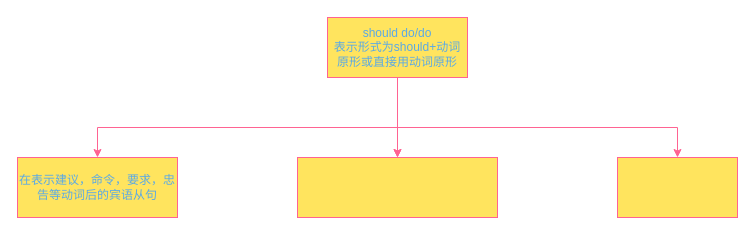
The diagram is 755 pixels wide and 235 high, and some of its shapes have lost their labels. Here are the shapes that lost their labels. From the top down, the centre of each, then its label:
pixel 397 187: it is(was)+形容词（或过去分词）+that结构中的主语从句
pixel 677 187: 表语从句或同位语从句
